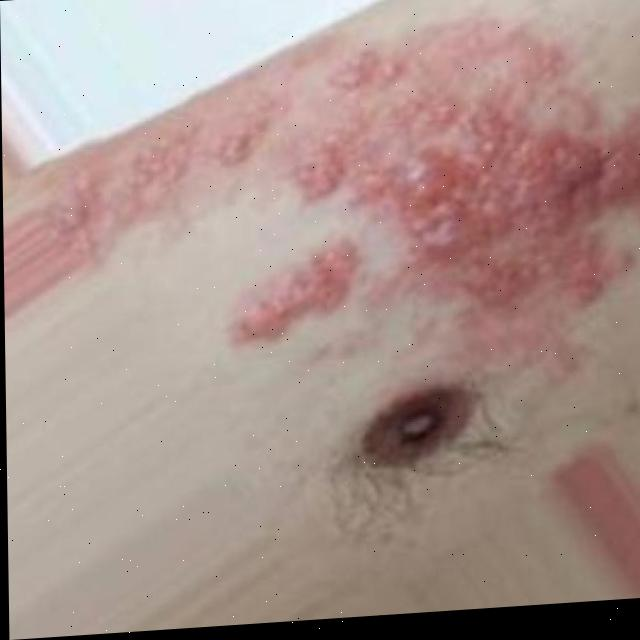Shingles: (78, 69, 640, 353)
